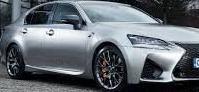Cars: (2, 1, 199, 91)
